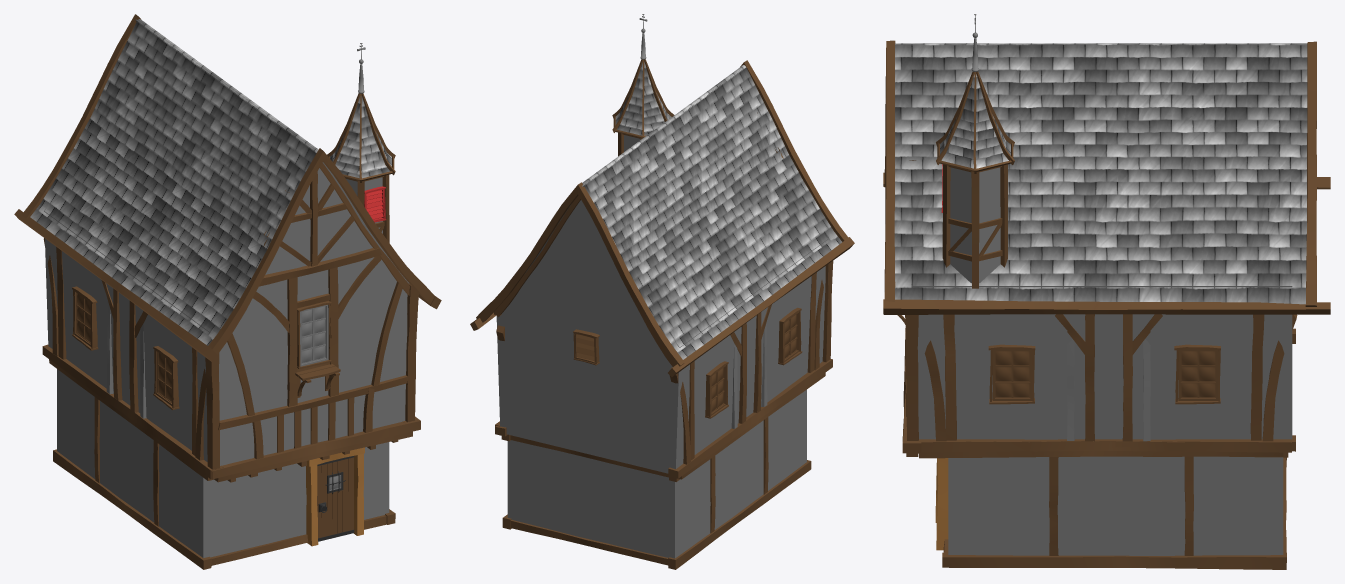
File: SM_house_04.fbx
3 views of the same model, side by side, from view 1: azimuth 30°, elevation 25°; view 2: azimuth 150°, elevation 25°; view 3: azimuth 270°, elevation 25° (orthographic). The views are drawn at different scales.
Visible parts, largest first — view 1: Object32585; view 2: Object32585; view 3: Object32585.
Part boxes in pixels (<box>): Object32585: <box>14,14,441,569</box>; Object32585: <box>470,14,854,569</box>; Object32585: <box>883,14,1330,569</box>.
Bounding box in the file's own units: 245 × 474 × 353.
8 materials, 1 textured.
